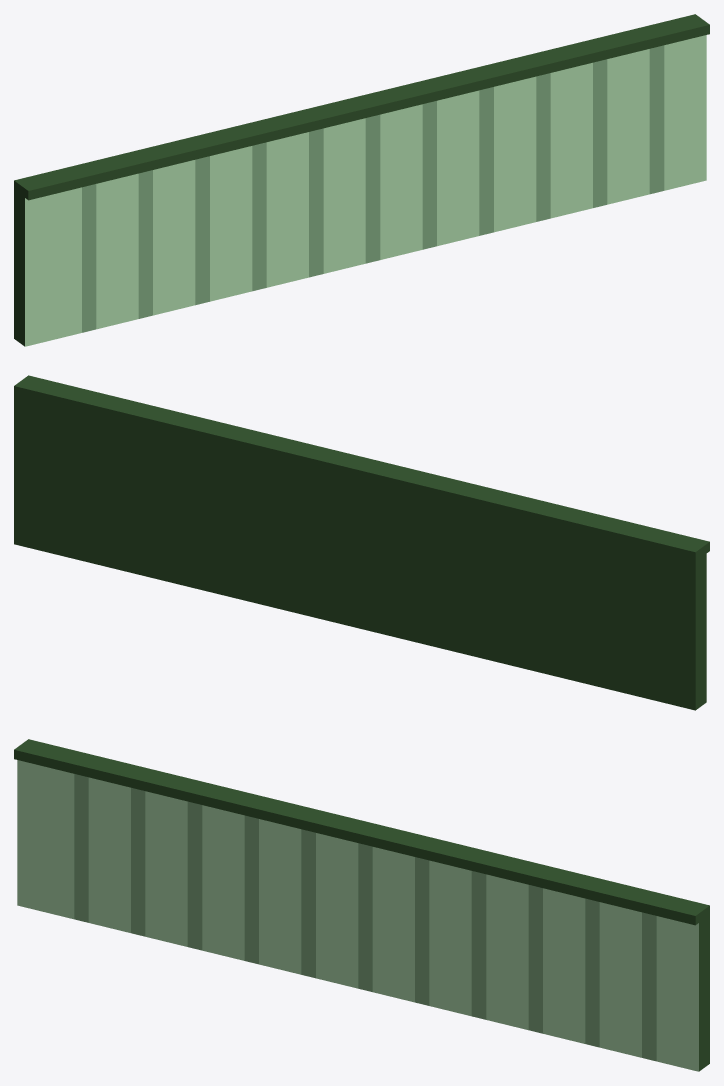
The model's file is Forward_Wall_House.fbx.
3 views of the same model, one above another, from view 1: azimuth 30°, elevation 25°; view 2: azimuth 150°, elevation 25°; view 3: azimuth 330°, elevation 25° (orthographic).
Parts seen in each view (by area): view 1: Cube.002; view 2: Cube.002; view 3: Cube.002.
Part boxes in pixels (bbox=[...]): Cube.002: bbox=[14, 14, 709, 346]; Cube.002: bbox=[14, 375, 709, 710]; Cube.002: bbox=[14, 739, 709, 1071].
Size of the model in its own units: 9.01 by 2 by 0.3315.
